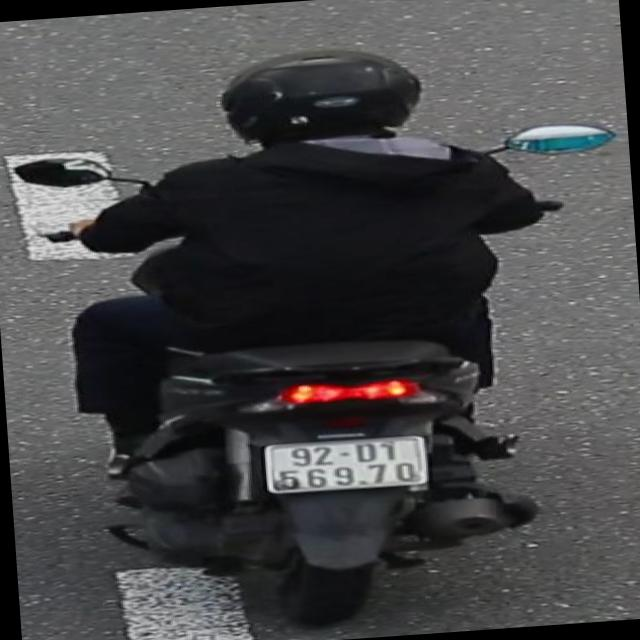LP: (258, 431, 438, 504)
helmet: (208, 33, 432, 165)
